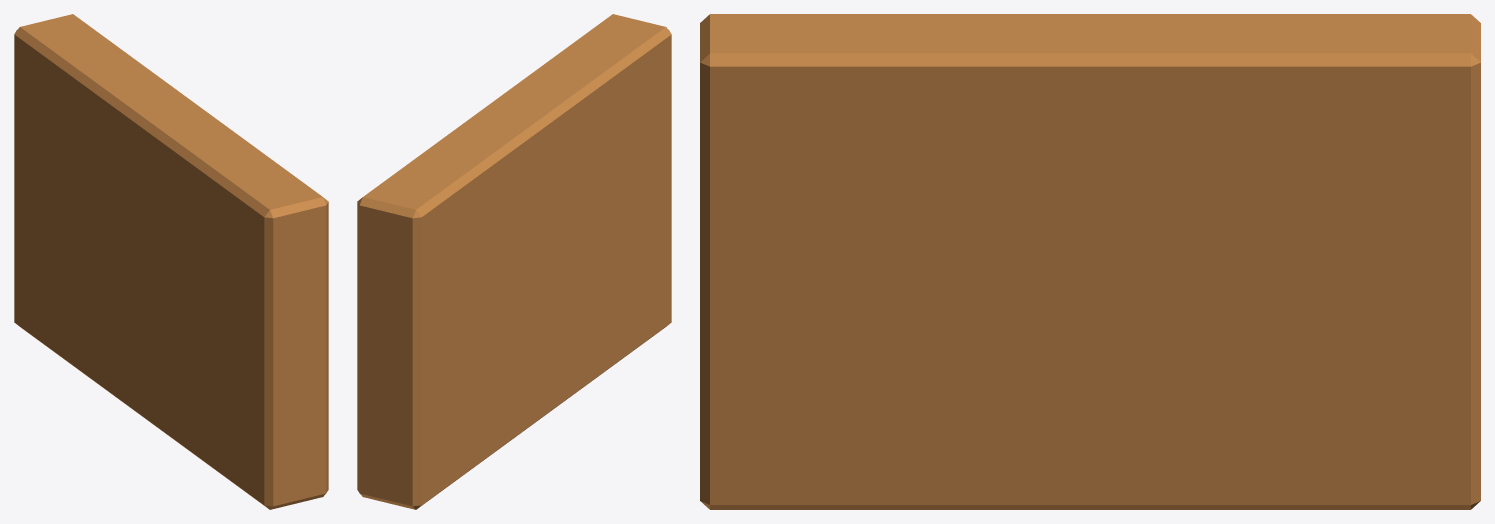
The model's file is wood_barrier.glb.
3 renders of one model, left to right at view 1: azimuth 30°, elevation 25°; view 2: azimuth 150°, elevation 25°; view 3: azimuth 270°, elevation 25°, orthographic. The views are drawn at different scales.
Parts seen in each view (by area): view 1: wood_barrier; view 2: wood_barrier; view 3: wood_barrier.
Part boxes in pixels (x1=…): wood_barrier: x1=14, y1=14, x2=328, y2=509; wood_barrier: x1=357, y1=14, x2=671, y2=509; wood_barrier: x1=700, y1=14, x2=1480, y2=509.
Size of the model in its own units: 0.09 by 0.4 by 0.62.
